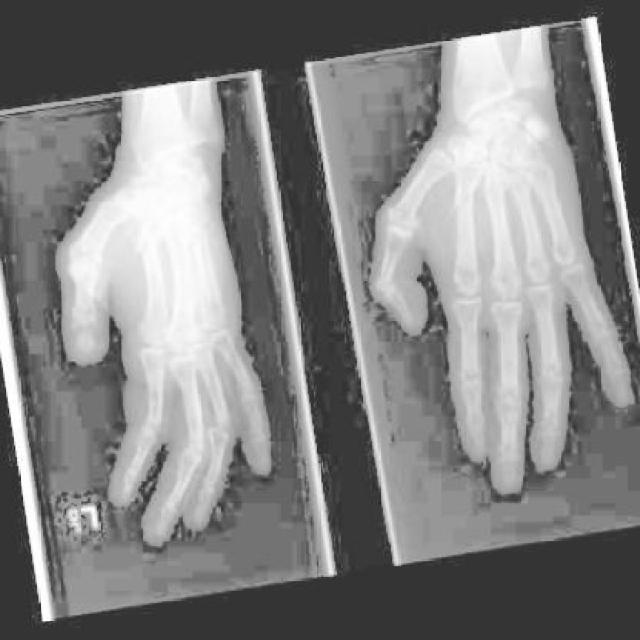Fracture: (116, 220, 170, 273), (383, 200, 426, 243), (74, 243, 108, 283), (444, 188, 482, 222), (166, 230, 197, 264), (496, 183, 519, 212)
